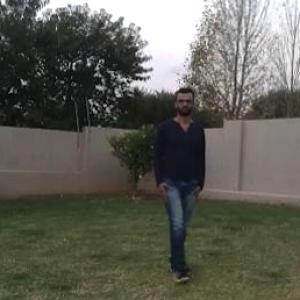follow: (158, 88, 202, 265)
